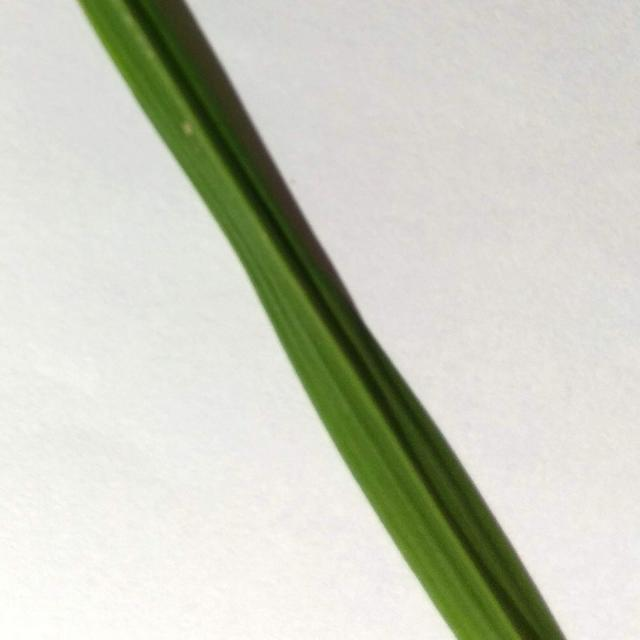healthy: (74, 2, 576, 640)
